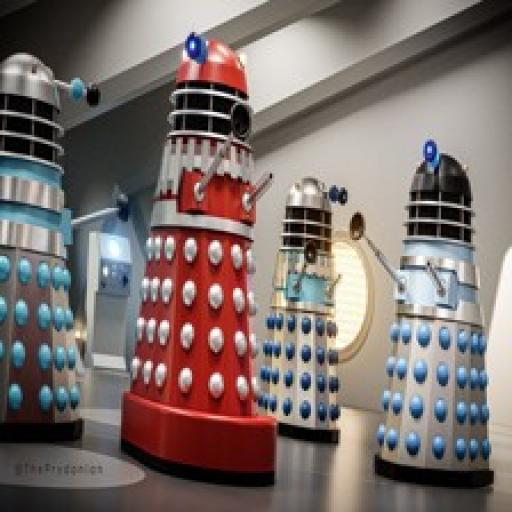dalek: (120, 31, 276, 488), (0, 49, 133, 450), (349, 137, 496, 488), (261, 177, 348, 445)
